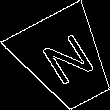N_SE: (32, 28, 99, 92)
